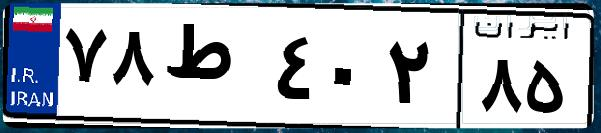0: (330, 28, 385, 110)
2: (385, 28, 445, 110)
4: (270, 28, 330, 110)
5: (525, 38, 570, 115)
7: (57, 26, 110, 100)
8: (475, 38, 525, 113), (110, 28, 158, 98)
ط: (158, 20, 270, 120)
